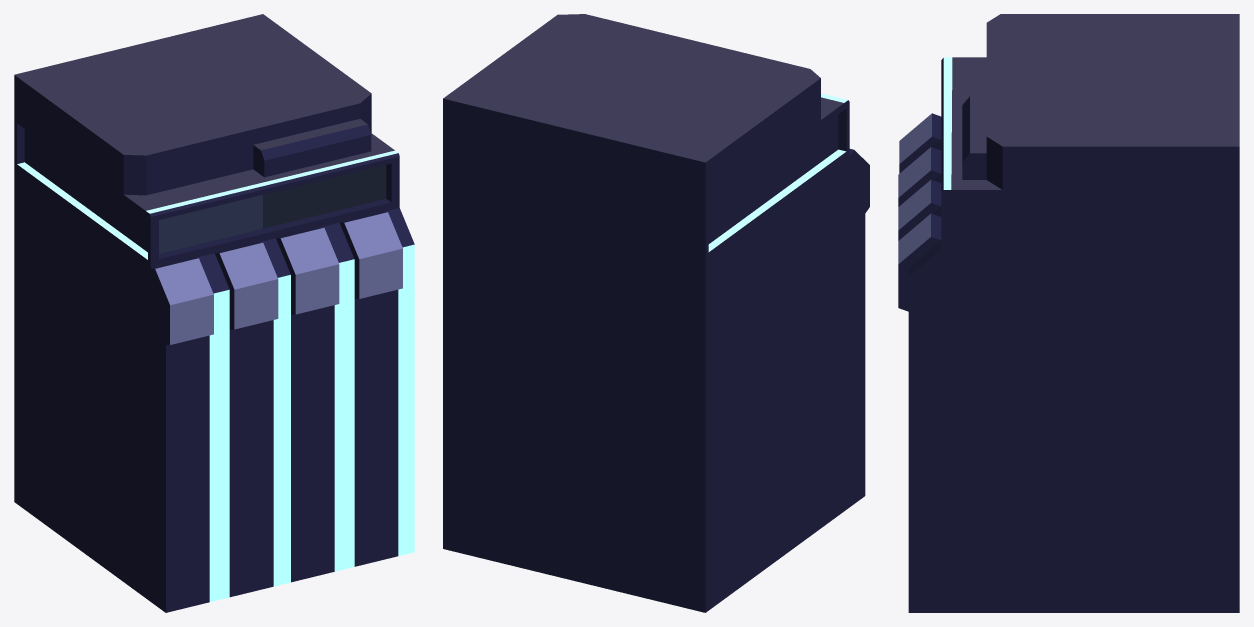
File: Building 3_1.fbx
3 renders of one model, left to right at view 1: azimuth 30°, elevation 25°; view 2: azimuth 150°, elevation 25°; view 3: azimuth 270°, elevation 25°, orthographic. The views are drawn at different scales.
Parts seen in each view (by area): view 1: _Building 3_1; view 2: _Building 3_1; view 3: _Building 3_1.
Boxes of the visible parts, x1=… form: _Building 3_1: x1=14, y1=14, x2=414, y2=612; _Building 3_1: x1=443, y1=14, x2=869, y2=612; _Building 3_1: x1=898, y1=14, x2=1239, y2=612.
Size of the model in its own units: 13.39 by 21.95 by 14.57.
